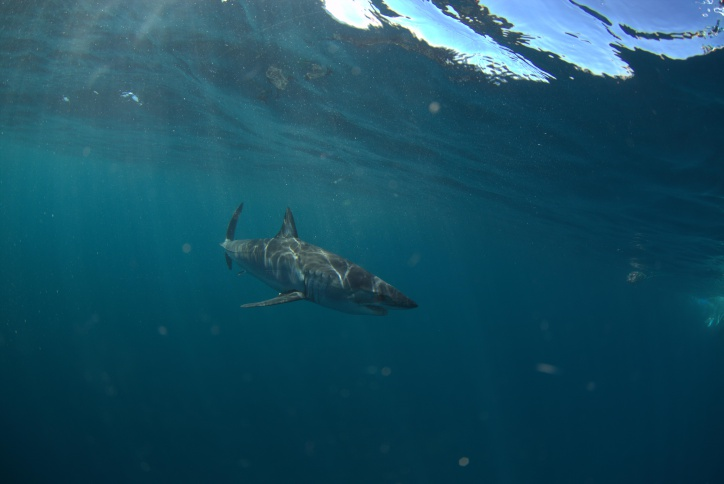Mako: (178, 188, 426, 330)
